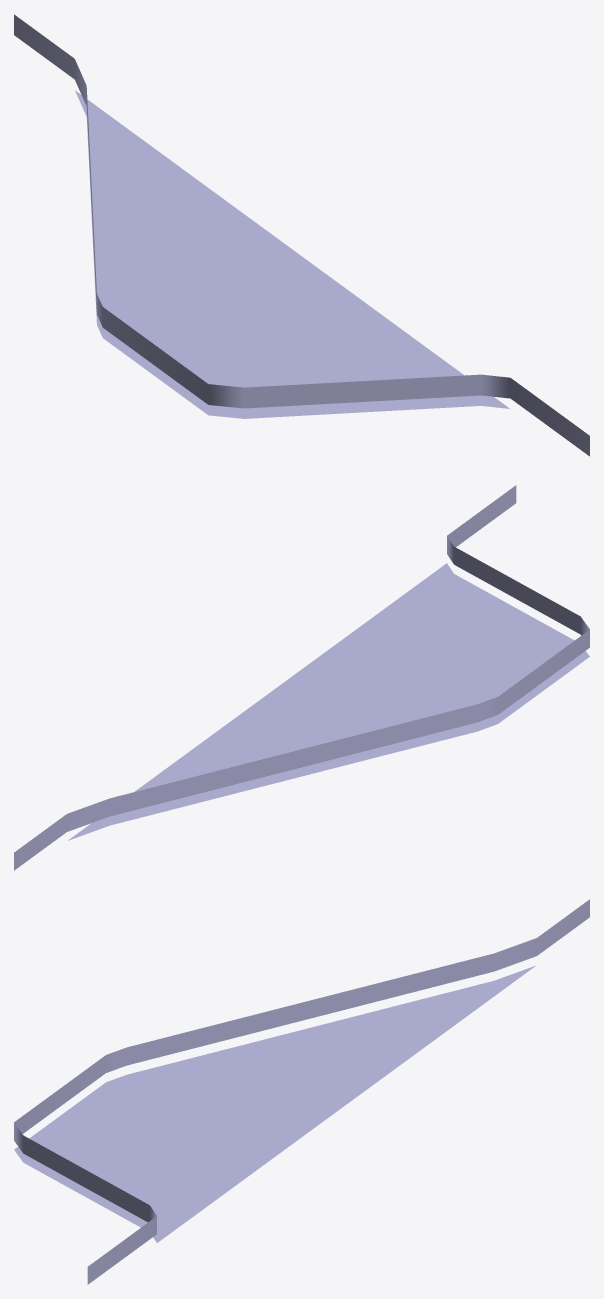
File: RestStop.fbx
3 views of the same model, one above another, from view 1: azimuth 30°, elevation 25°; view 2: azimuth 150°, elevation 25°; view 3: azimuth 330°, elevation 25° (orthographic). The views are drawn at different scales.
Visible parts, largest first — view 1: allRestStop_5, allRestStop_guardrail_5; view 2: allRestStop_5, allRestStop_guardrail_5; view 3: allRestStop_5, allRestStop_guardrail_5.
Part boxes in pixels (box(x1,y1,x2,y2)): allRestStop_5: box(75, 90, 509, 418); allRestStop_guardrail_5: box(14, 14, 589, 456); allRestStop_5: box(68, 563, 589, 840); allRestStop_guardrail_5: box(14, 485, 589, 870); allRestStop_5: box(14, 965, 535, 1242); allRestStop_guardrail_5: box(14, 899, 589, 1284).
Size of the model in its own units: 4.67 by 0.6 by 20.
